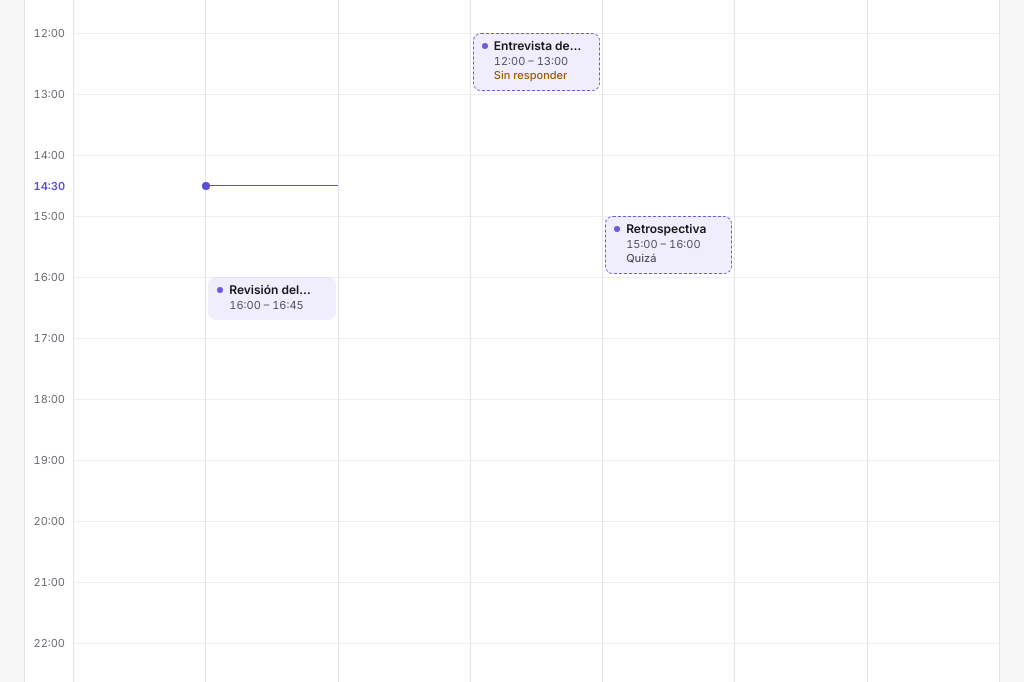
Test: the event panel › follows the design's order and says «Sin cambios» until something changes
The width and height of the screenshot is (1024, 682).
(page scrolled)
Click the button "Revisión del tablero 16:00 – 16:45" at (272, 298), box [208,277,336,320]
(page scrolled)
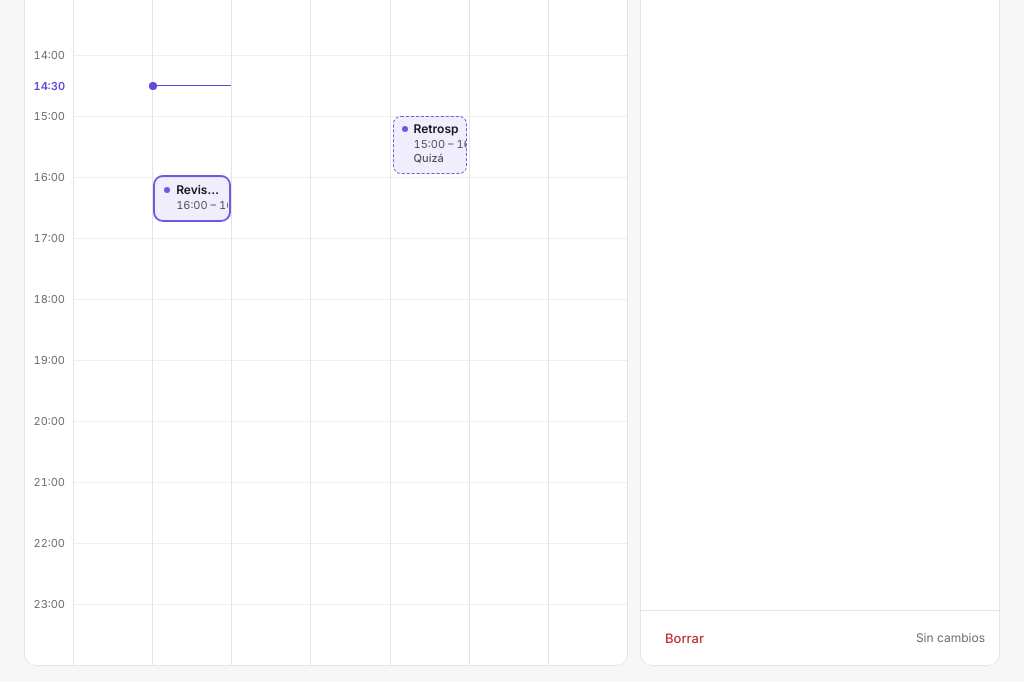
Expected: the text "Sin cambios" is shown, [916,629,985,647]
Expected: the button "Borrar" is shown, [655,622,714,654]
